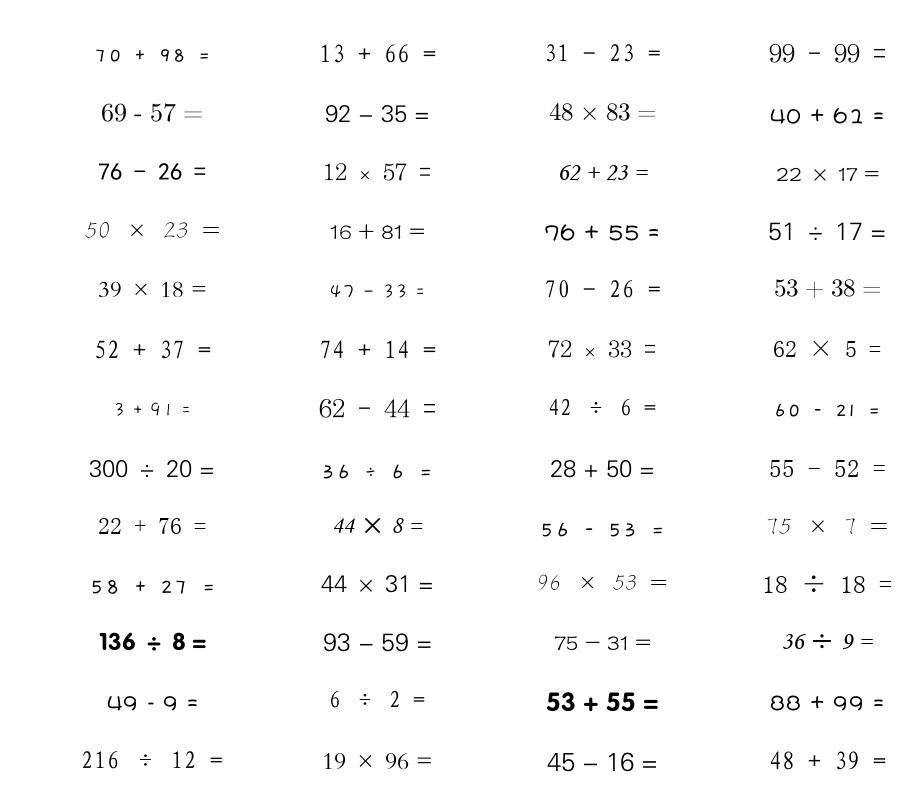MQ: (81, 751, 223, 769), (769, 43, 886, 63), (319, 398, 436, 418), (762, 575, 892, 593), (89, 460, 215, 478), (546, 692, 659, 712), (768, 222, 886, 241), (319, 44, 436, 63), (94, 340, 211, 359), (319, 340, 436, 359), (769, 751, 886, 770), (547, 752, 658, 772), (85, 222, 220, 238), (774, 279, 881, 299), (544, 44, 661, 62), (544, 280, 661, 298), (537, 574, 668, 590), (766, 518, 888, 535), (323, 633, 432, 652), (321, 575, 434, 593), (99, 632, 206, 651), (769, 460, 886, 477), (544, 224, 660, 241), (323, 163, 431, 181), (548, 340, 656, 358), (548, 398, 656, 416), (101, 103, 203, 122), (770, 107, 884, 124), (549, 103, 656, 121), (89, 579, 216, 594), (325, 105, 430, 123), (550, 460, 655, 478), (539, 522, 665, 537), (322, 753, 433, 770), (98, 281, 207, 298), (98, 163, 206, 180), (773, 340, 881, 357), (770, 695, 884, 711), (98, 518, 206, 534), (329, 690, 425, 708), (321, 464, 433, 479), (330, 223, 425, 240), (332, 517, 423, 534), (94, 49, 211, 62), (773, 403, 881, 417), (557, 165, 648, 181), (776, 167, 879, 181), (329, 284, 425, 299), (781, 634, 873, 649), (107, 696, 198, 711), (554, 636, 651, 650), (113, 402, 191, 417)
